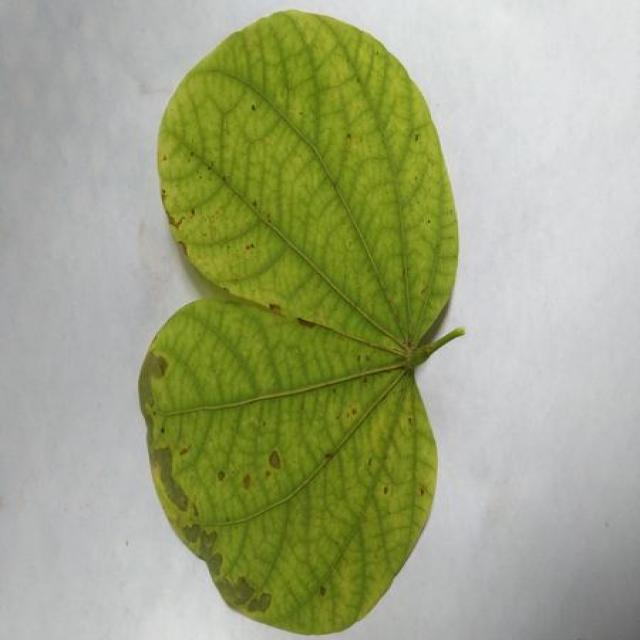Kambajala: (140, 11, 460, 634)
